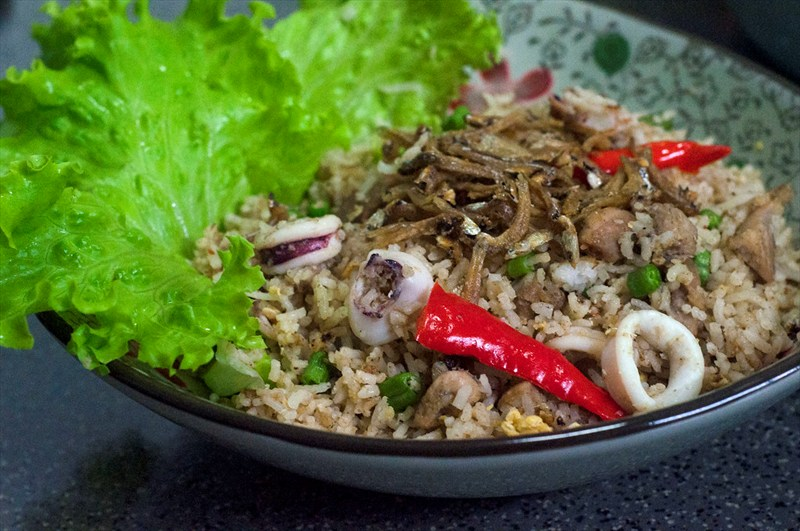Nasi Goreng: (132, 79, 723, 435)
